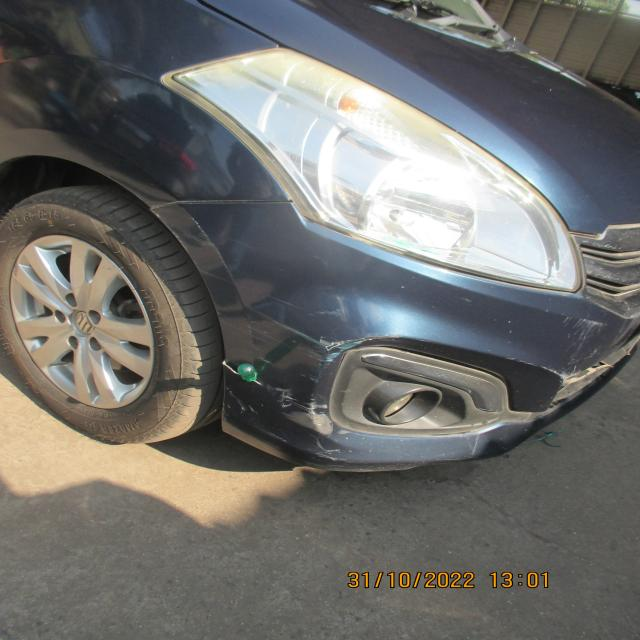damage: (271, 293, 394, 458), (223, 349, 269, 431), (502, 349, 563, 382)
